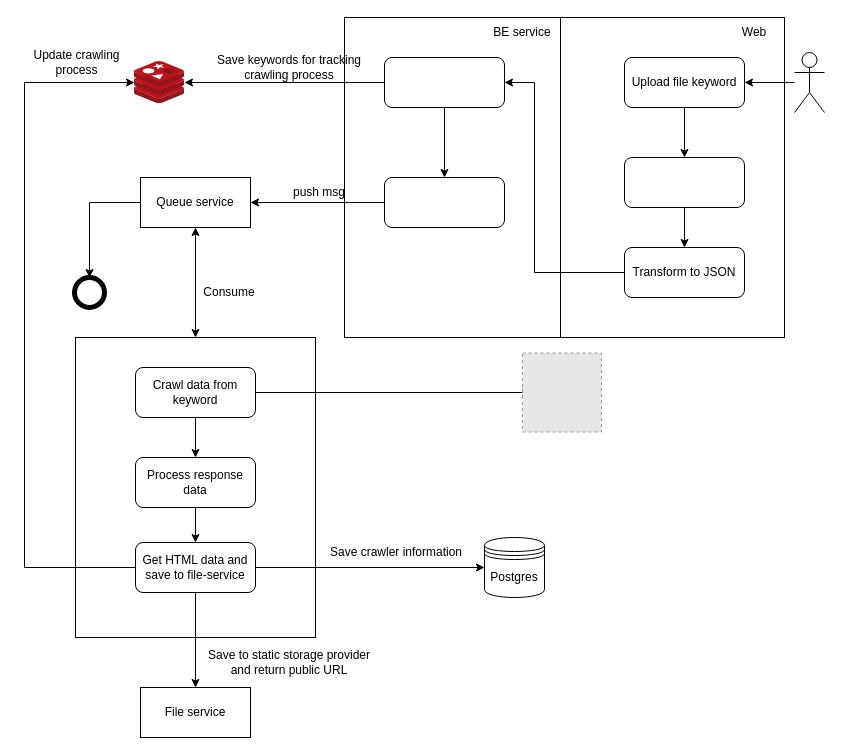
This 842x755 diagram has some shape labels left out. Grey dashed boxes stand in for pictures. Each missing label, with the centre of its shape:
Transform each keyword to message: (444,202)
User: (809,82)
Validate file type, keywords: (684,182)
Validate keywords length: (444,82)
